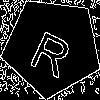R: (27, 22, 79, 79)
